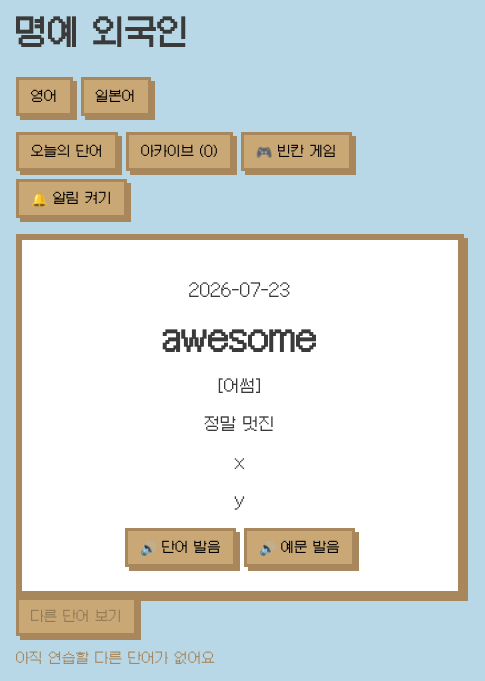
it: App › switches to Japanese mode and shows the Japanese today page
Expected: the heading "awesome" is shown, [163,320,317,357]
Click the button "일본어".
click(116, 96)  # box [81,77,151,116]
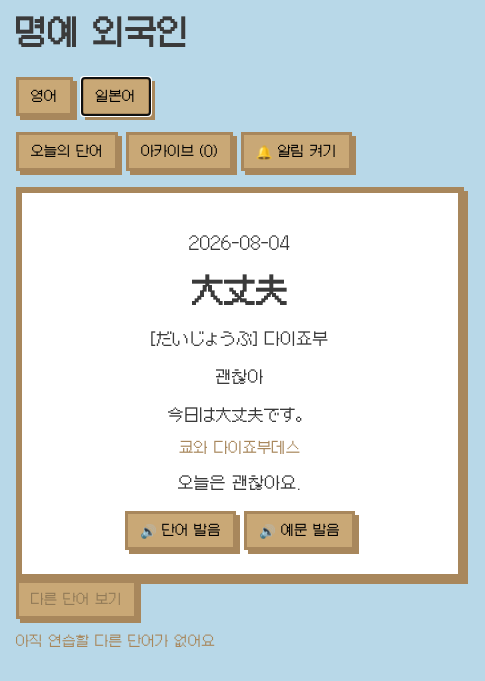
Expected: the heading "大丈夫" is shown, [192,273,288,310]
Expected: the heading "awesome" is gone
